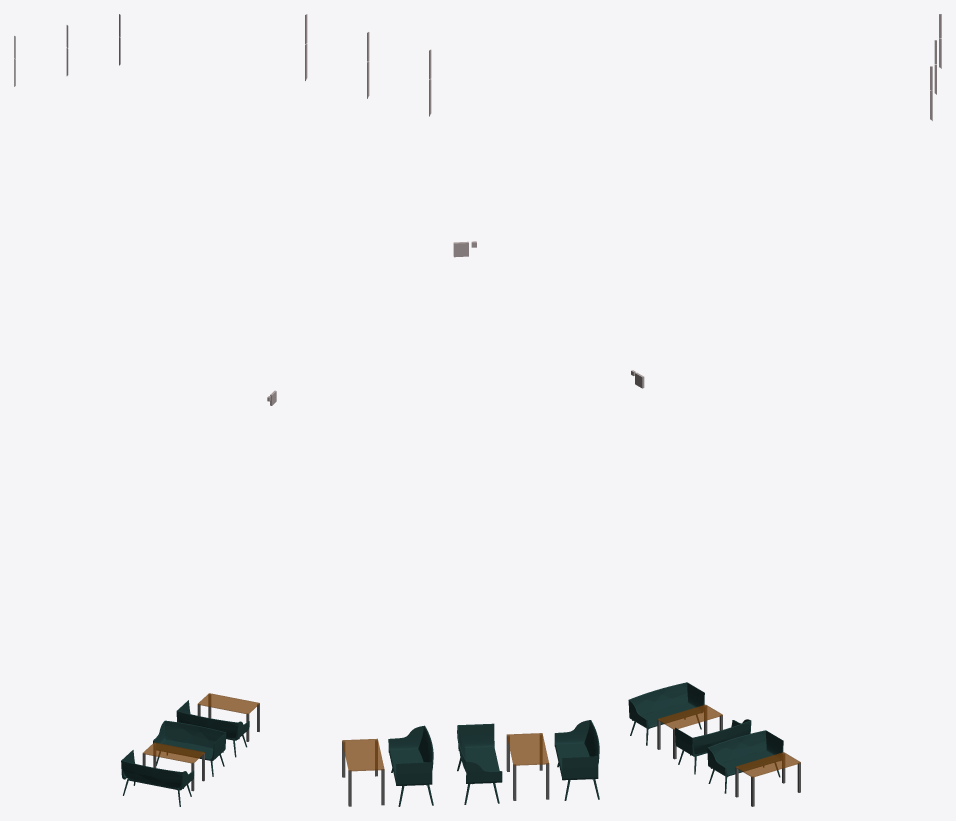
3 views of the same model, side by side, from view 1: azimuth 30°, elevation 25°; view 2: azimuth 150°, elevation 25°; view 3: azimuth 270°, elevation 25° (orthographic). The views are drawn at different scales.
Visible parts, largest first — view 1: 0, 1, 2; view 2: 0, 1, 2, 3; view 3: 0, 1, 2, 3.
Part boxes in pixels (x1=…): 0: x1=121, y1=700, x2=249, y2=806; 1: x1=142, y1=693, x2=259, y2=763; 2: x1=142, y1=694, x2=259, y2=791; 0: x1=388, y1=720, x2=599, y2=806; 1: x1=342, y1=733, x2=549, y2=771; 2: x1=342, y1=734, x2=549, y2=806; 3: x1=305, y1=14, x2=476, y2=257; 0: x1=628, y1=682, x2=783, y2=793; 1: x1=657, y1=704, x2=800, y2=777; 2: x1=657, y1=706, x2=800, y2=806; 3: x1=631, y1=14, x2=941, y2=388.
Size of the model in its own units: 4.2 by 15.82 by 6.31.
